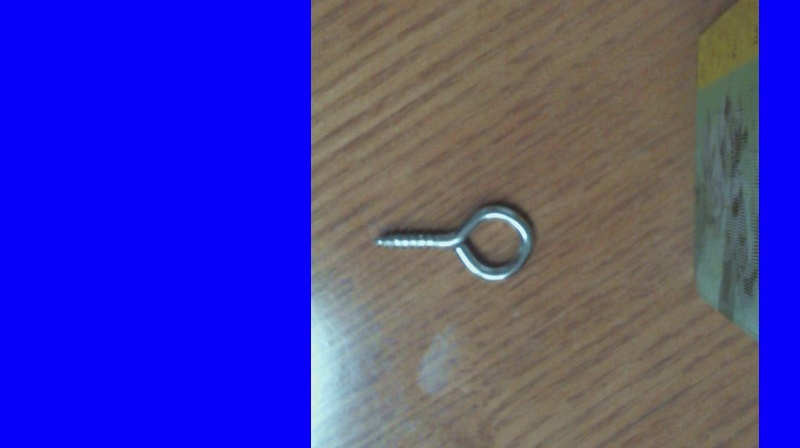O001: (373, 195, 543, 287)
